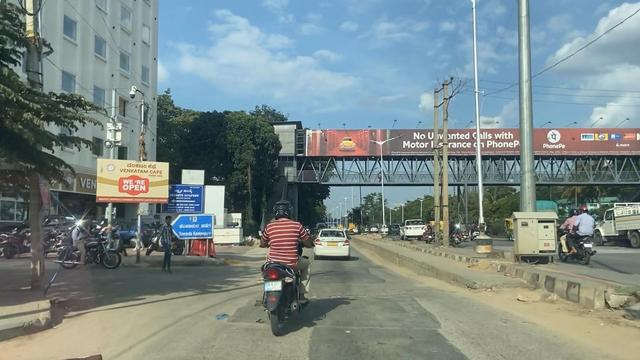LMV: (256, 200, 306, 339), (315, 228, 349, 261)
UnsurfacedRoad: (310, 286, 461, 335)
